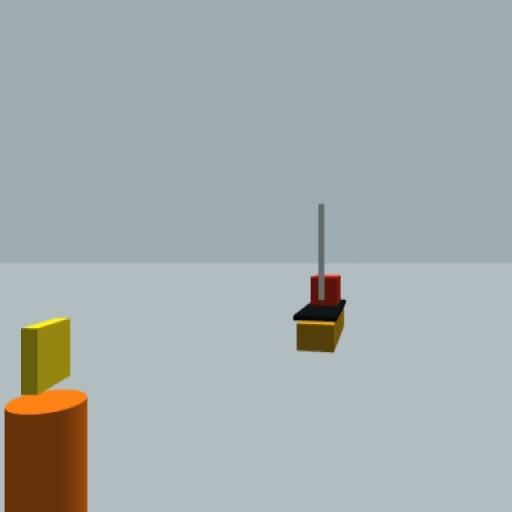vessel: (294, 203, 348, 353)
